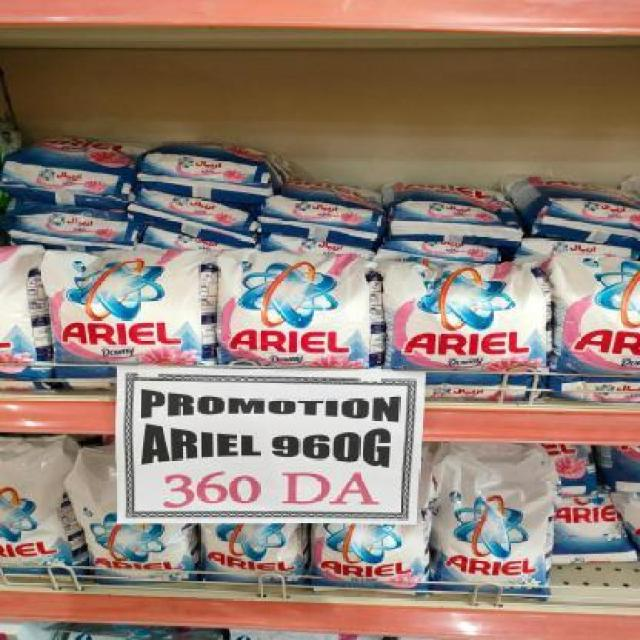Detergent: (42, 232, 215, 370), (212, 248, 386, 367), (388, 264, 549, 382), (546, 239, 640, 381), (499, 160, 639, 248), (386, 170, 526, 244), (0, 124, 135, 193), (143, 132, 283, 192), (268, 178, 388, 237), (132, 193, 248, 244), (8, 198, 132, 244), (259, 230, 373, 262)
